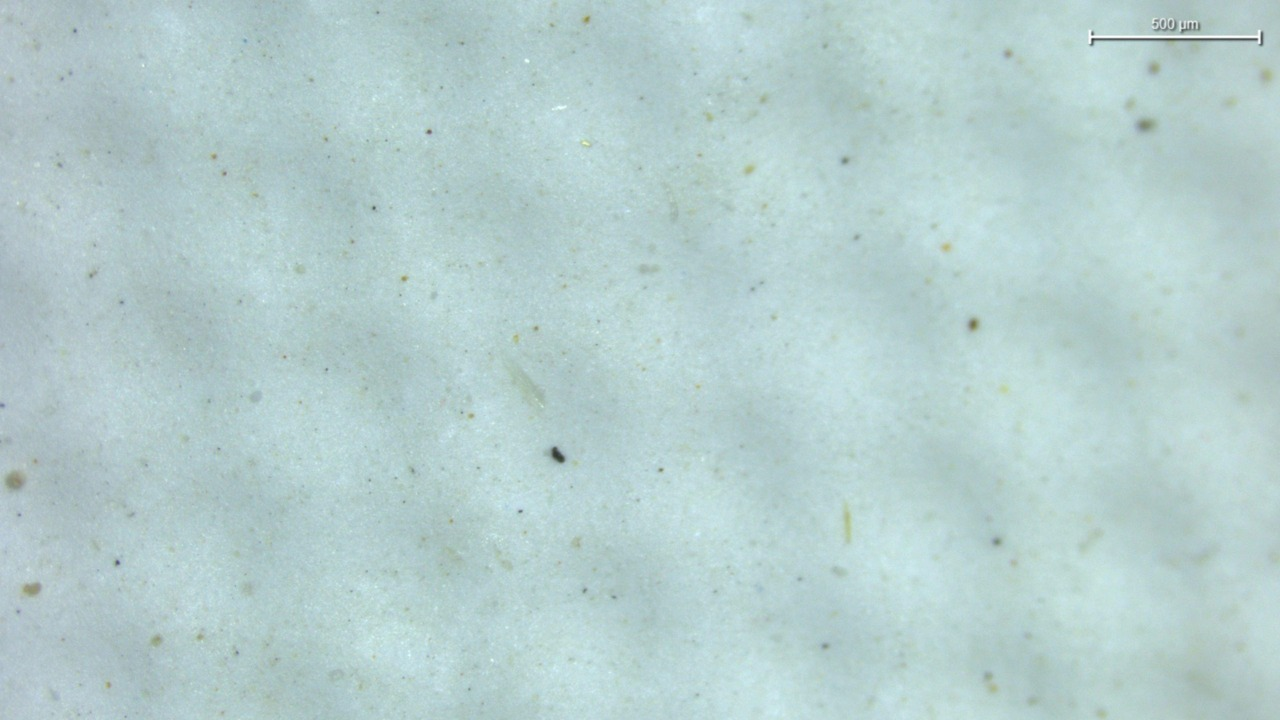microplastic_fragment: (504, 359, 545, 409)
